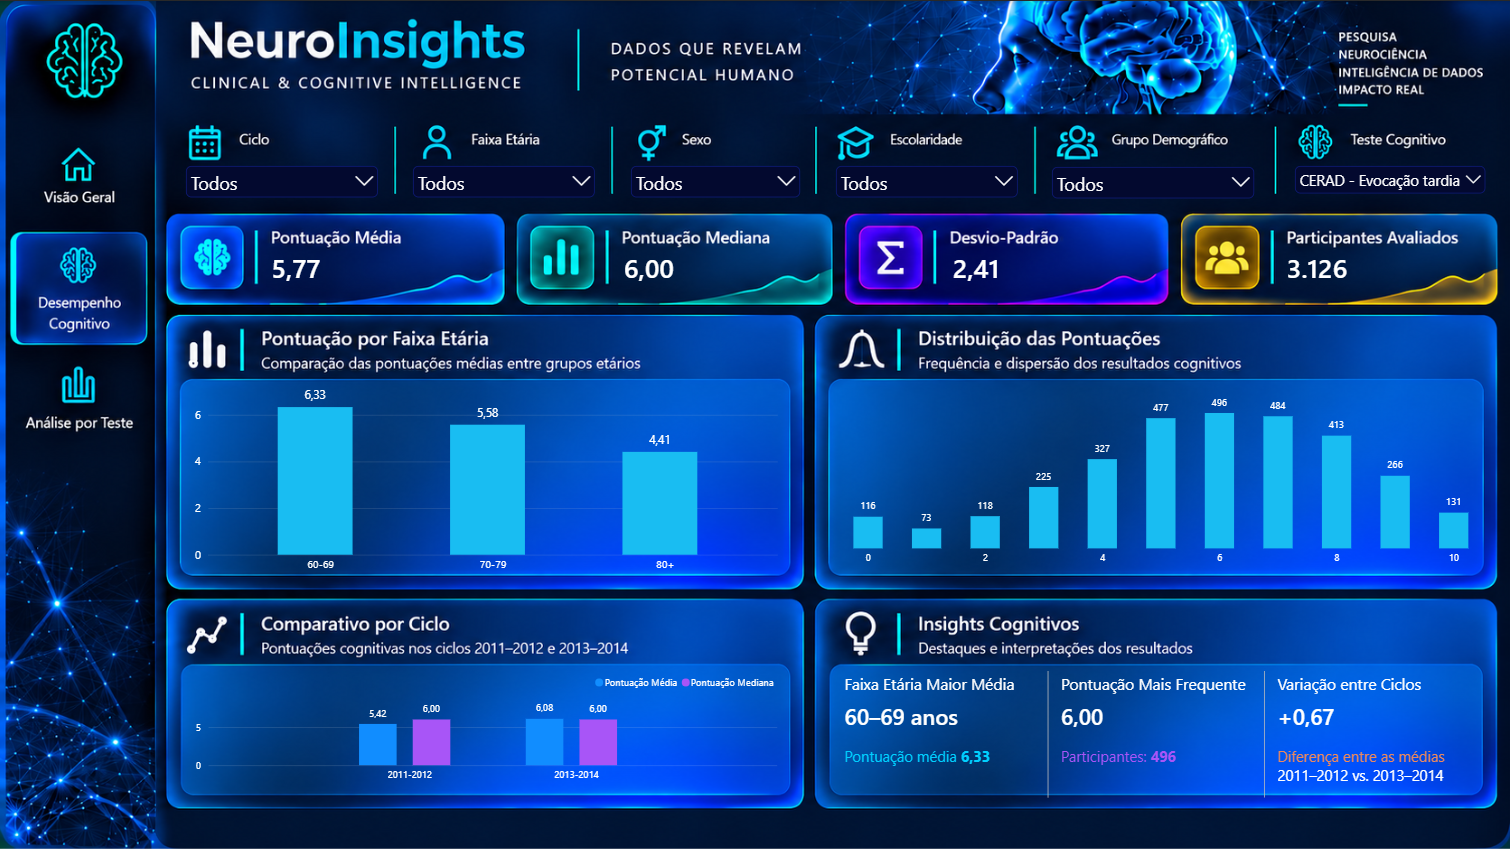

The dashboard page shown, as its layout file describes it:
{"tool":"powerbi","page":{"name":"Desempenho Cognitivo","canvas":[1920,1080],"ordinal":1},"visuals":[{"type":"slicer","fields":{"Values":["dim_ciclo.ciclo"]},"box":[232.5,204.1,253.8,56.9],"z":0},{"type":"slicer","fields":{"Values":["dim_participante.faixa_etaria"]},"box":[520.4,204.1,241.4,47],"z":1000},{"type":"slicer","fields":{"Values":["dim_participante.Sexo"]},"box":[797.4,204.1,224.9,57.2],"z":2000},{"type":"slicer","fields":{"Values":["dim_participante.Escolaridade"]},"box":[1057.9,204.1,240.8,47.7],"z":3000},{"type":"slicer","fields":{"Values":["dim_participante.Grupo Demográfico"]},"box":[1333.3,205.8,267.3,58.2],"z":4000},{"type":"slicer","fields":{"Values":["dim_teste.teste"]},"box":[1641.3,204.3,251.8,58.2],"z":5000},{"type":"card","fields":{"Values":["_Medidas.Pontuação Média"]},"box":[245.3,307.5,264.3,64.8],"z":6000},{"type":"card","fields":{"Values":["_Medidas.Pontuação Mediana"]},"box":[673.8,307.5,304.9,64.8],"z":7000},{"type":"card","fields":{"Values":["_Medidas.Participantes Avaliados"]},"box":[1522.6,307.5,304.9,64.8],"z":8000},{"type":"card","fields":{"Values":["_Medidas.Desvio-Padrão"]},"box":[1089.2,307.5,304.9,64.8],"z":9000},{"type":"clusteredColumnChart","fields":{"Category":["dim_participante.faixa_etaria"],"Y":["_Medidas.Pontuação Média"]},"box":[232.9,464.5,772.8,280.5],"z":10000},{"type":"clusteredColumnChart","fields":{"Category":["fato_avaliacao.pontuacao"],"Y":["_Medidas.Participantes Avaliados"]},"box":[1058.1,475.9,835.7,260],"z":11000},{"type":"clusteredColumnChart","fields":{"Category":["dim_ciclo.ciclo"],"Y":["_Medidas.Pontuação Média","_Medidas.Pontuação Mediana"]},"box":[234.2,837.6,771.4,174.7],"z":12000},{"type":"cardVisual","fields":{"Data":["_Medidas.Faixa Etária Maior Média","_Medidas.Pontuação Mais Frequente","_Medidas.Variação entre Ciclos Exibição"]},"box":[1058.6,850.8,825.7,161.4],"z":13000},{"type":"actionButton","box":[41.9,456.1,119.4,67.3],"z":13001},{"type":"actionButton","box":[53.4,183,95.3,68.6],"z":13002}]}

Visuals, with their boxes on the page's 1920x1080 design canvas (x1, y1, x2, y2). These are canvas units, not pixel positions in the 1510x849 screenshot, which may show the page scaled, cropped or inside an application window:
slicer - dim_ciclo.ciclo: <bbox>232, 204, 486, 261</bbox>
slicer - dim_participante.faixa_etaria: <bbox>520, 204, 762, 251</bbox>
slicer - dim_participante.Sexo: <bbox>797, 204, 1022, 261</bbox>
slicer - dim_participante.Escolaridade: <bbox>1058, 204, 1299, 252</bbox>
slicer - dim_participante.Grupo Demográfico: <bbox>1333, 206, 1601, 264</bbox>
slicer - dim_teste.teste: <bbox>1641, 204, 1893, 262</bbox>
card - _Medidas.Pontuação Média: <bbox>245, 308, 510, 372</bbox>
card - _Medidas.Pontuação Mediana: <bbox>674, 308, 979, 372</bbox>
card - _Medidas.Participantes Avaliados: <bbox>1523, 308, 1828, 372</bbox>
card - _Medidas.Desvio-Padrão: <bbox>1089, 308, 1394, 372</bbox>
clusteredColumnChart - dim_participante.faixa_etaria x _Medidas.Pontuação Média: <bbox>233, 464, 1006, 745</bbox>
clusteredColumnChart - fato_avaliacao.pontuacao x _Medidas.Participantes Avaliados: <bbox>1058, 476, 1894, 736</bbox>
clusteredColumnChart - dim_ciclo.ciclo x _Medidas.Pontuação Média: <bbox>234, 838, 1006, 1012</bbox>
cardVisual - _Medidas.Faixa Etária Maior Média x _Medidas.Pontuação Mais Frequente: <bbox>1059, 851, 1884, 1012</bbox>
actionButton: <bbox>42, 456, 161, 523</bbox>
actionButton: <bbox>53, 183, 149, 252</bbox>
